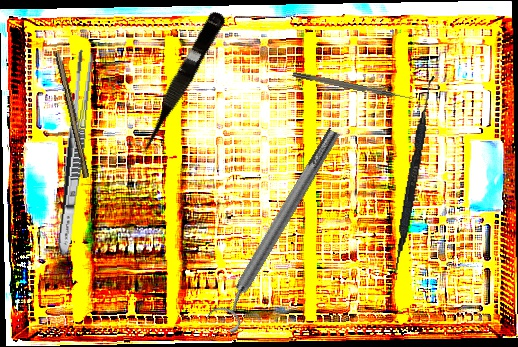Dressing Forceps: (54, 47, 95, 258)
Fixation Ring: (203, 122, 352, 336)
Hook Surgical: (292, 70, 414, 103)
Micro Scissor: (130, 7, 228, 160)
Scalpel Handle: (52, 51, 94, 179)
Spatula Surgical: (391, 74, 436, 276)
